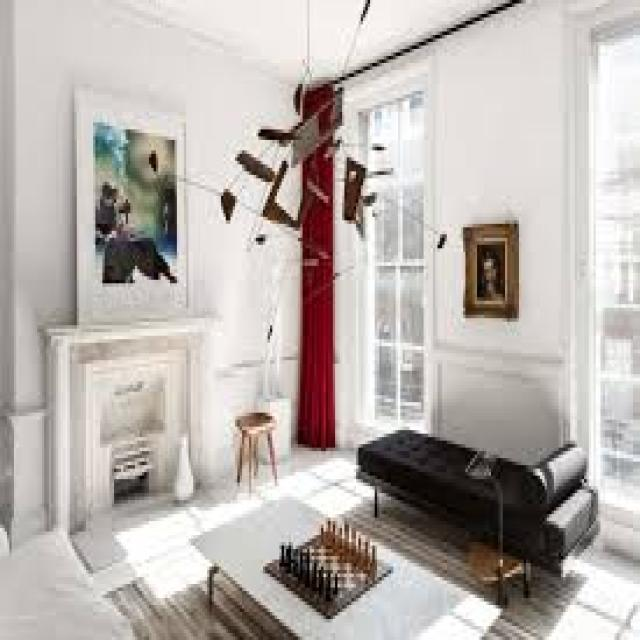Chair: (233, 407, 286, 505)
Lamp: (188, 32, 412, 302)
Sofa: (356, 398, 600, 581)
Table: (184, 499, 496, 640)
